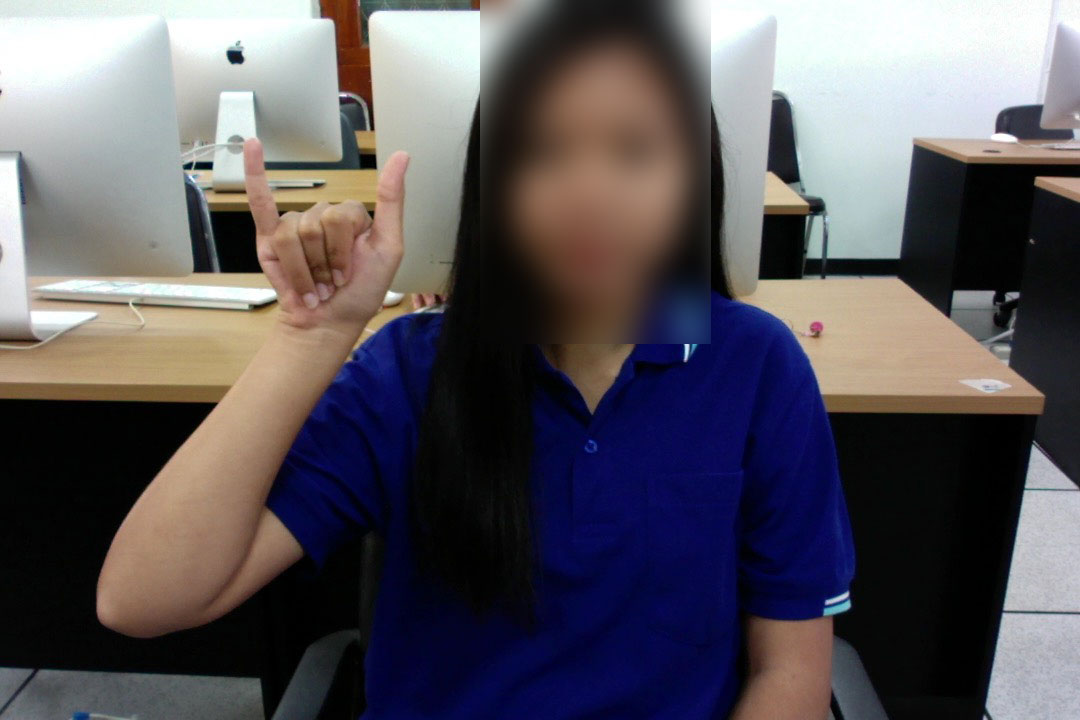yor: (235, 127, 417, 360)
